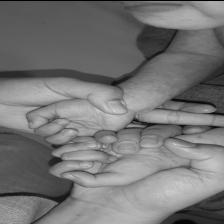DA: (125, 60, 212, 94)
